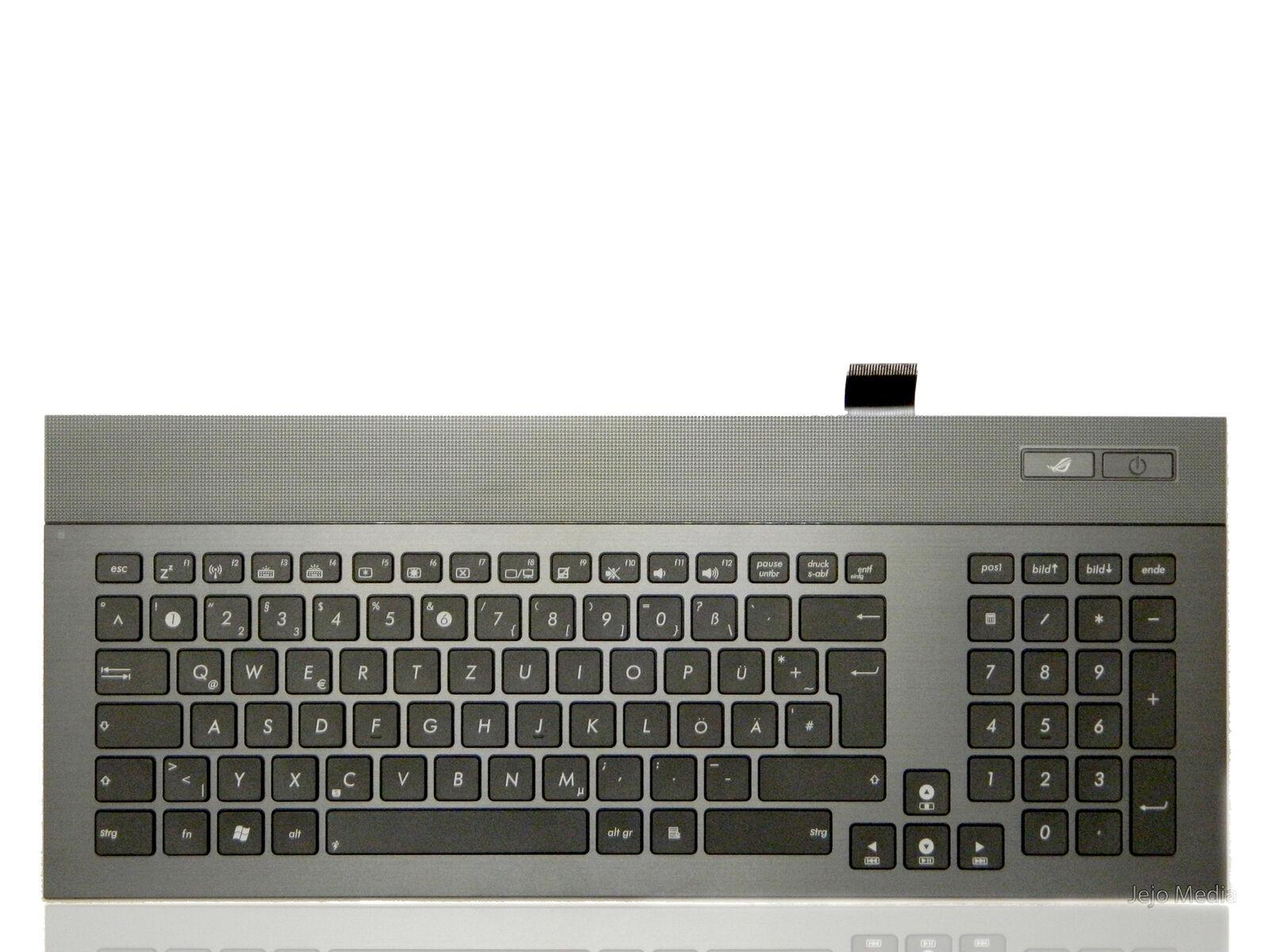0: (634, 593, 683, 639)
1: (147, 593, 197, 640)
2: (202, 593, 250, 639)
3: (256, 593, 305, 639)
4: (311, 593, 358, 639)
5: (365, 593, 412, 639)
6: (418, 593, 467, 639)
7: (473, 593, 520, 639)
8: (527, 593, 575, 640)
9: (581, 593, 629, 639)
a: (189, 701, 236, 747)
accent: (744, 593, 791, 639)
ae: (730, 700, 778, 747)
alt-left: (270, 808, 318, 855)
altgr-right: (594, 805, 644, 854)
b: (432, 754, 481, 800)
c: (324, 753, 373, 800)
caret: (93, 593, 141, 640)
comma: (595, 753, 642, 800)
d: (297, 700, 344, 747)
del: (797, 593, 886, 641)
e: (284, 647, 332, 694)
enter: (825, 645, 885, 747)
f: (352, 700, 399, 747)
g: (405, 699, 454, 747)
h: (460, 700, 508, 747)
hash: (783, 700, 831, 747)
i: (554, 646, 602, 693)
j: (514, 699, 562, 747)
k: (567, 699, 616, 747)
keyboard: (74, 526, 1203, 886)
l: (622, 700, 669, 747)
less: (161, 754, 209, 801)
m: (540, 753, 590, 800)
minus: (702, 754, 750, 800)
n: (486, 753, 535, 800)
o: (608, 646, 656, 693)
oe: (676, 700, 723, 747)
p: (663, 647, 710, 693)
plus: (770, 646, 818, 694)
point: (648, 754, 696, 800)
q: (174, 646, 224, 694)
r: (339, 647, 386, 693)
s: (243, 701, 290, 747)
shift-left: (91, 754, 154, 802)
shift-lock: (92, 701, 182, 748)
shift-right: (757, 753, 886, 800)
space: (324, 806, 588, 854)
ss: (689, 593, 737, 639)
strg-left: (89, 808, 155, 856)
strg-right: (702, 807, 835, 854)
t: (393, 646, 439, 693)
tab: (92, 647, 168, 695)
u: (500, 646, 549, 693)
ue: (717, 647, 764, 693)
v: (378, 753, 427, 800)
w: (229, 646, 278, 693)
x: (270, 753, 319, 800)
y: (216, 754, 263, 800)
z: (447, 646, 494, 693)
